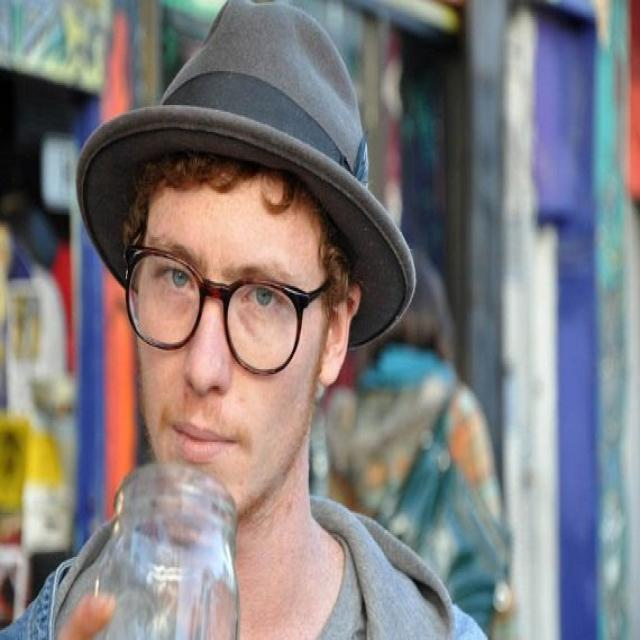hat: (75, 0, 417, 543)
